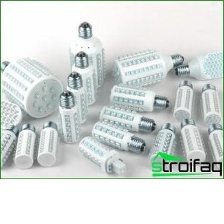light_bulb: (0, 52, 66, 122), (107, 41, 183, 91), (62, 19, 109, 89), (75, 133, 128, 176), (107, 81, 172, 115), (95, 103, 157, 134), (90, 120, 148, 153), (67, 49, 99, 107), (174, 47, 224, 82), (178, 111, 208, 167), (59, 69, 89, 125), (146, 119, 177, 169), (56, 87, 82, 143), (169, 76, 197, 124), (35, 118, 60, 169), (199, 80, 224, 129), (12, 121, 37, 170), (204, 120, 224, 171), (0, 123, 19, 168)
